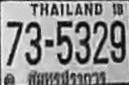2: (92, 21, 108, 65)
3: (24, 21, 41, 64), (74, 20, 90, 63)
5: (56, 20, 72, 64)
7: (6, 20, 22, 63)
9: (110, 20, 125, 62)
SPK: (25, 70, 110, 85)
